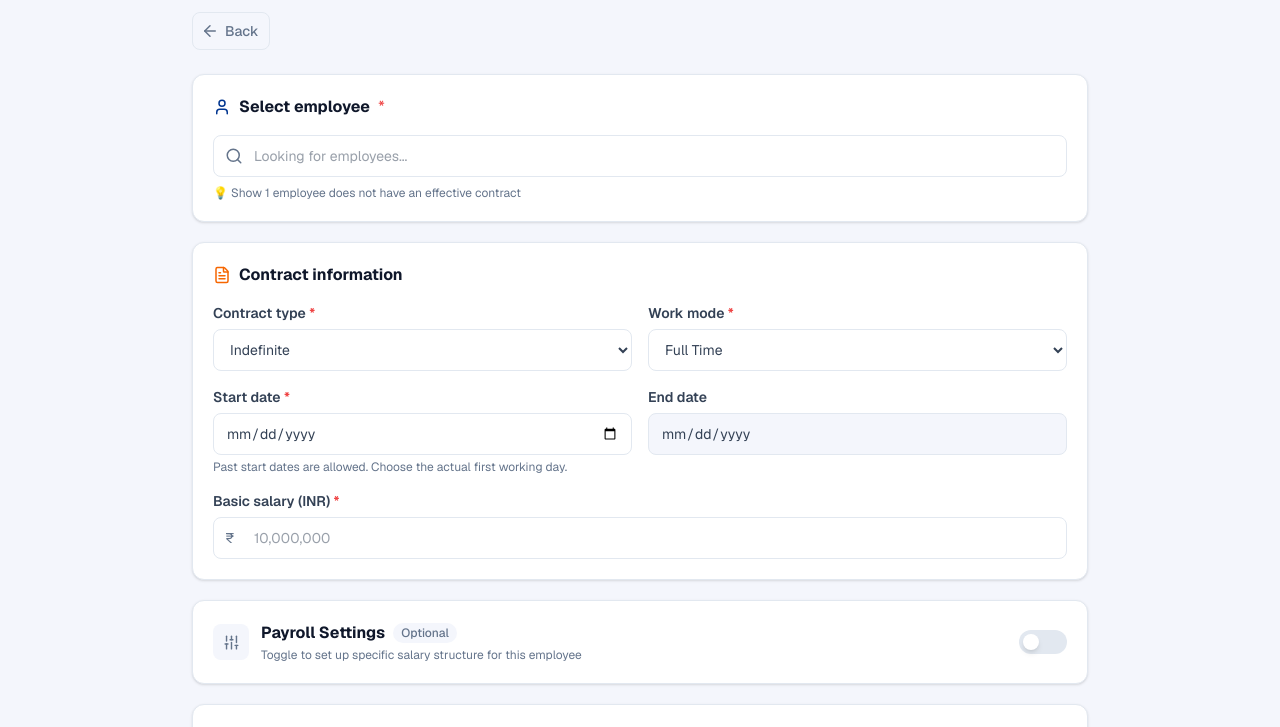
Test: New contract page › the end date › appears as soon as the type is anything else
Select "Fixed Term" in the dropdown with test id "con-form-type" at coordinates (422, 350), box 213,329 -> 632,371
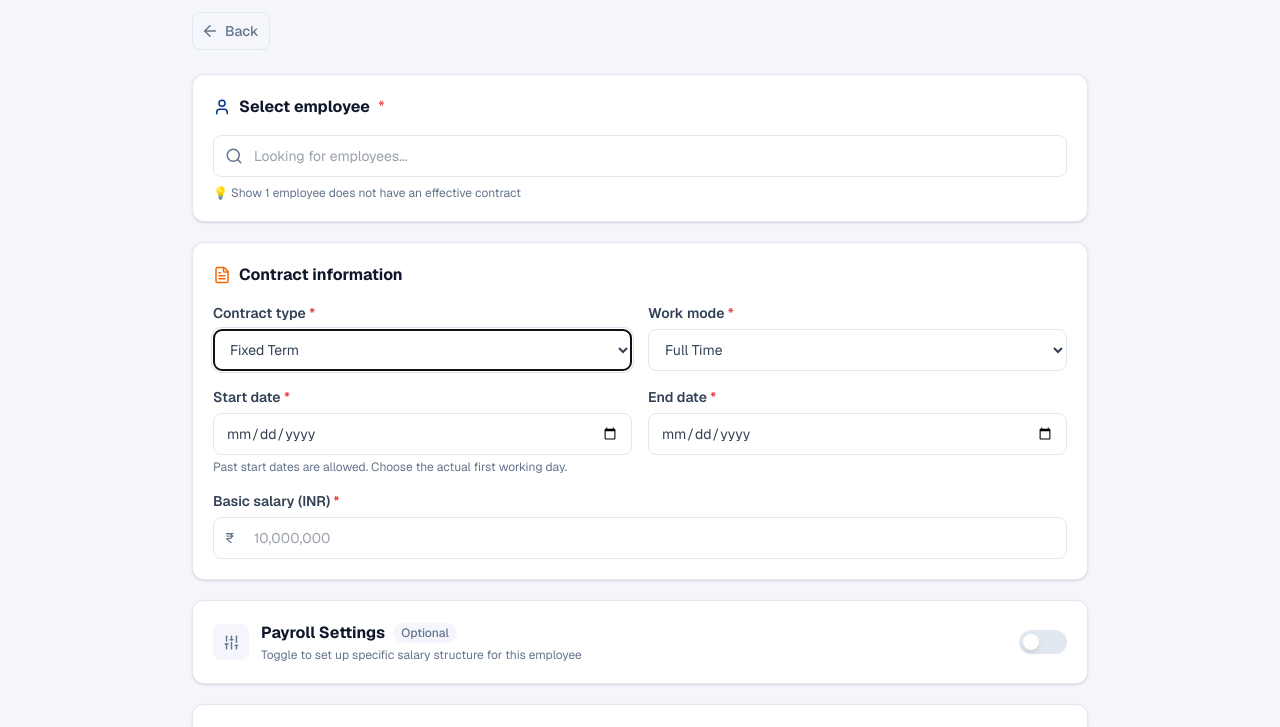
Now the date field with test id "con-form-end" is enabled, box 648,413 -> 1067,455
